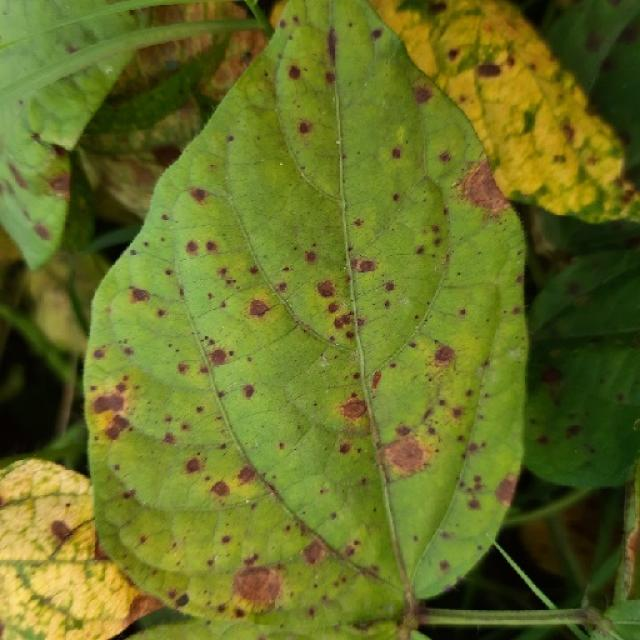Anthracnose: (378, 422, 434, 485), (462, 162, 509, 212), (232, 564, 283, 606), (90, 382, 133, 429), (152, 144, 183, 168), (494, 474, 517, 504), (301, 539, 326, 566), (339, 397, 367, 420), (50, 519, 73, 542), (433, 344, 456, 366), (247, 298, 271, 318), (48, 174, 70, 194), (236, 465, 256, 484), (413, 84, 432, 104), (208, 348, 229, 366), (541, 367, 562, 385), (476, 63, 501, 78), (316, 279, 335, 298), (210, 480, 230, 498), (333, 313, 353, 331), (129, 286, 150, 303), (33, 222, 51, 241), (326, 28, 337, 58), (585, 31, 601, 51), (562, 122, 575, 143), (185, 457, 201, 474), (565, 423, 582, 439), (190, 188, 208, 203), (357, 259, 376, 273), (566, 280, 582, 296), (175, 592, 190, 608), (371, 370, 382, 390), (241, 384, 255, 399), (303, 250, 317, 264), (185, 240, 199, 254), (288, 65, 301, 80), (298, 120, 311, 134), (92, 347, 106, 360), (177, 361, 190, 374), (338, 442, 352, 454), (467, 498, 480, 510), (205, 240, 218, 252), (447, 48, 459, 61), (391, 147, 402, 159), (384, 281, 395, 292), (439, 560, 450, 571), (221, 535, 231, 544)
Blackgram: (85, 0, 526, 639)
